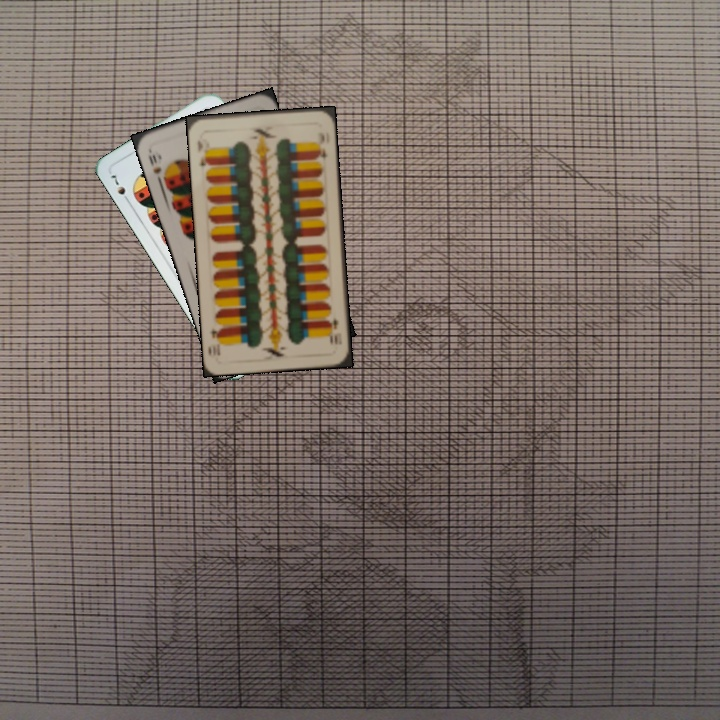E10: (193, 136, 213, 169), (325, 314, 341, 347)
S10: (144, 151, 164, 185)
S7: (106, 170, 133, 206)
